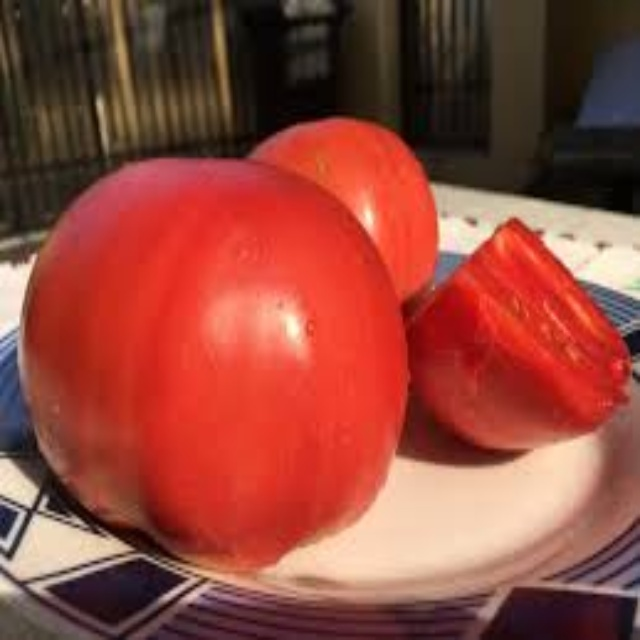tomato: (31, 150, 415, 577), (400, 215, 634, 455), (273, 111, 444, 321)
